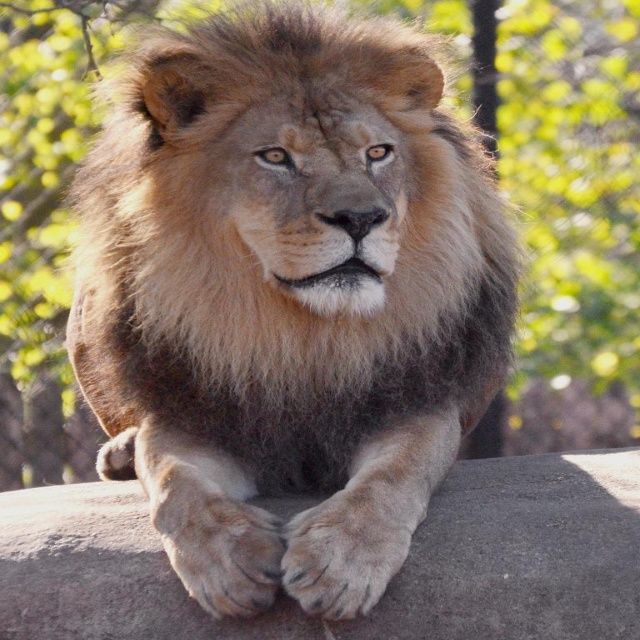Lion: (46, 0, 533, 625)
